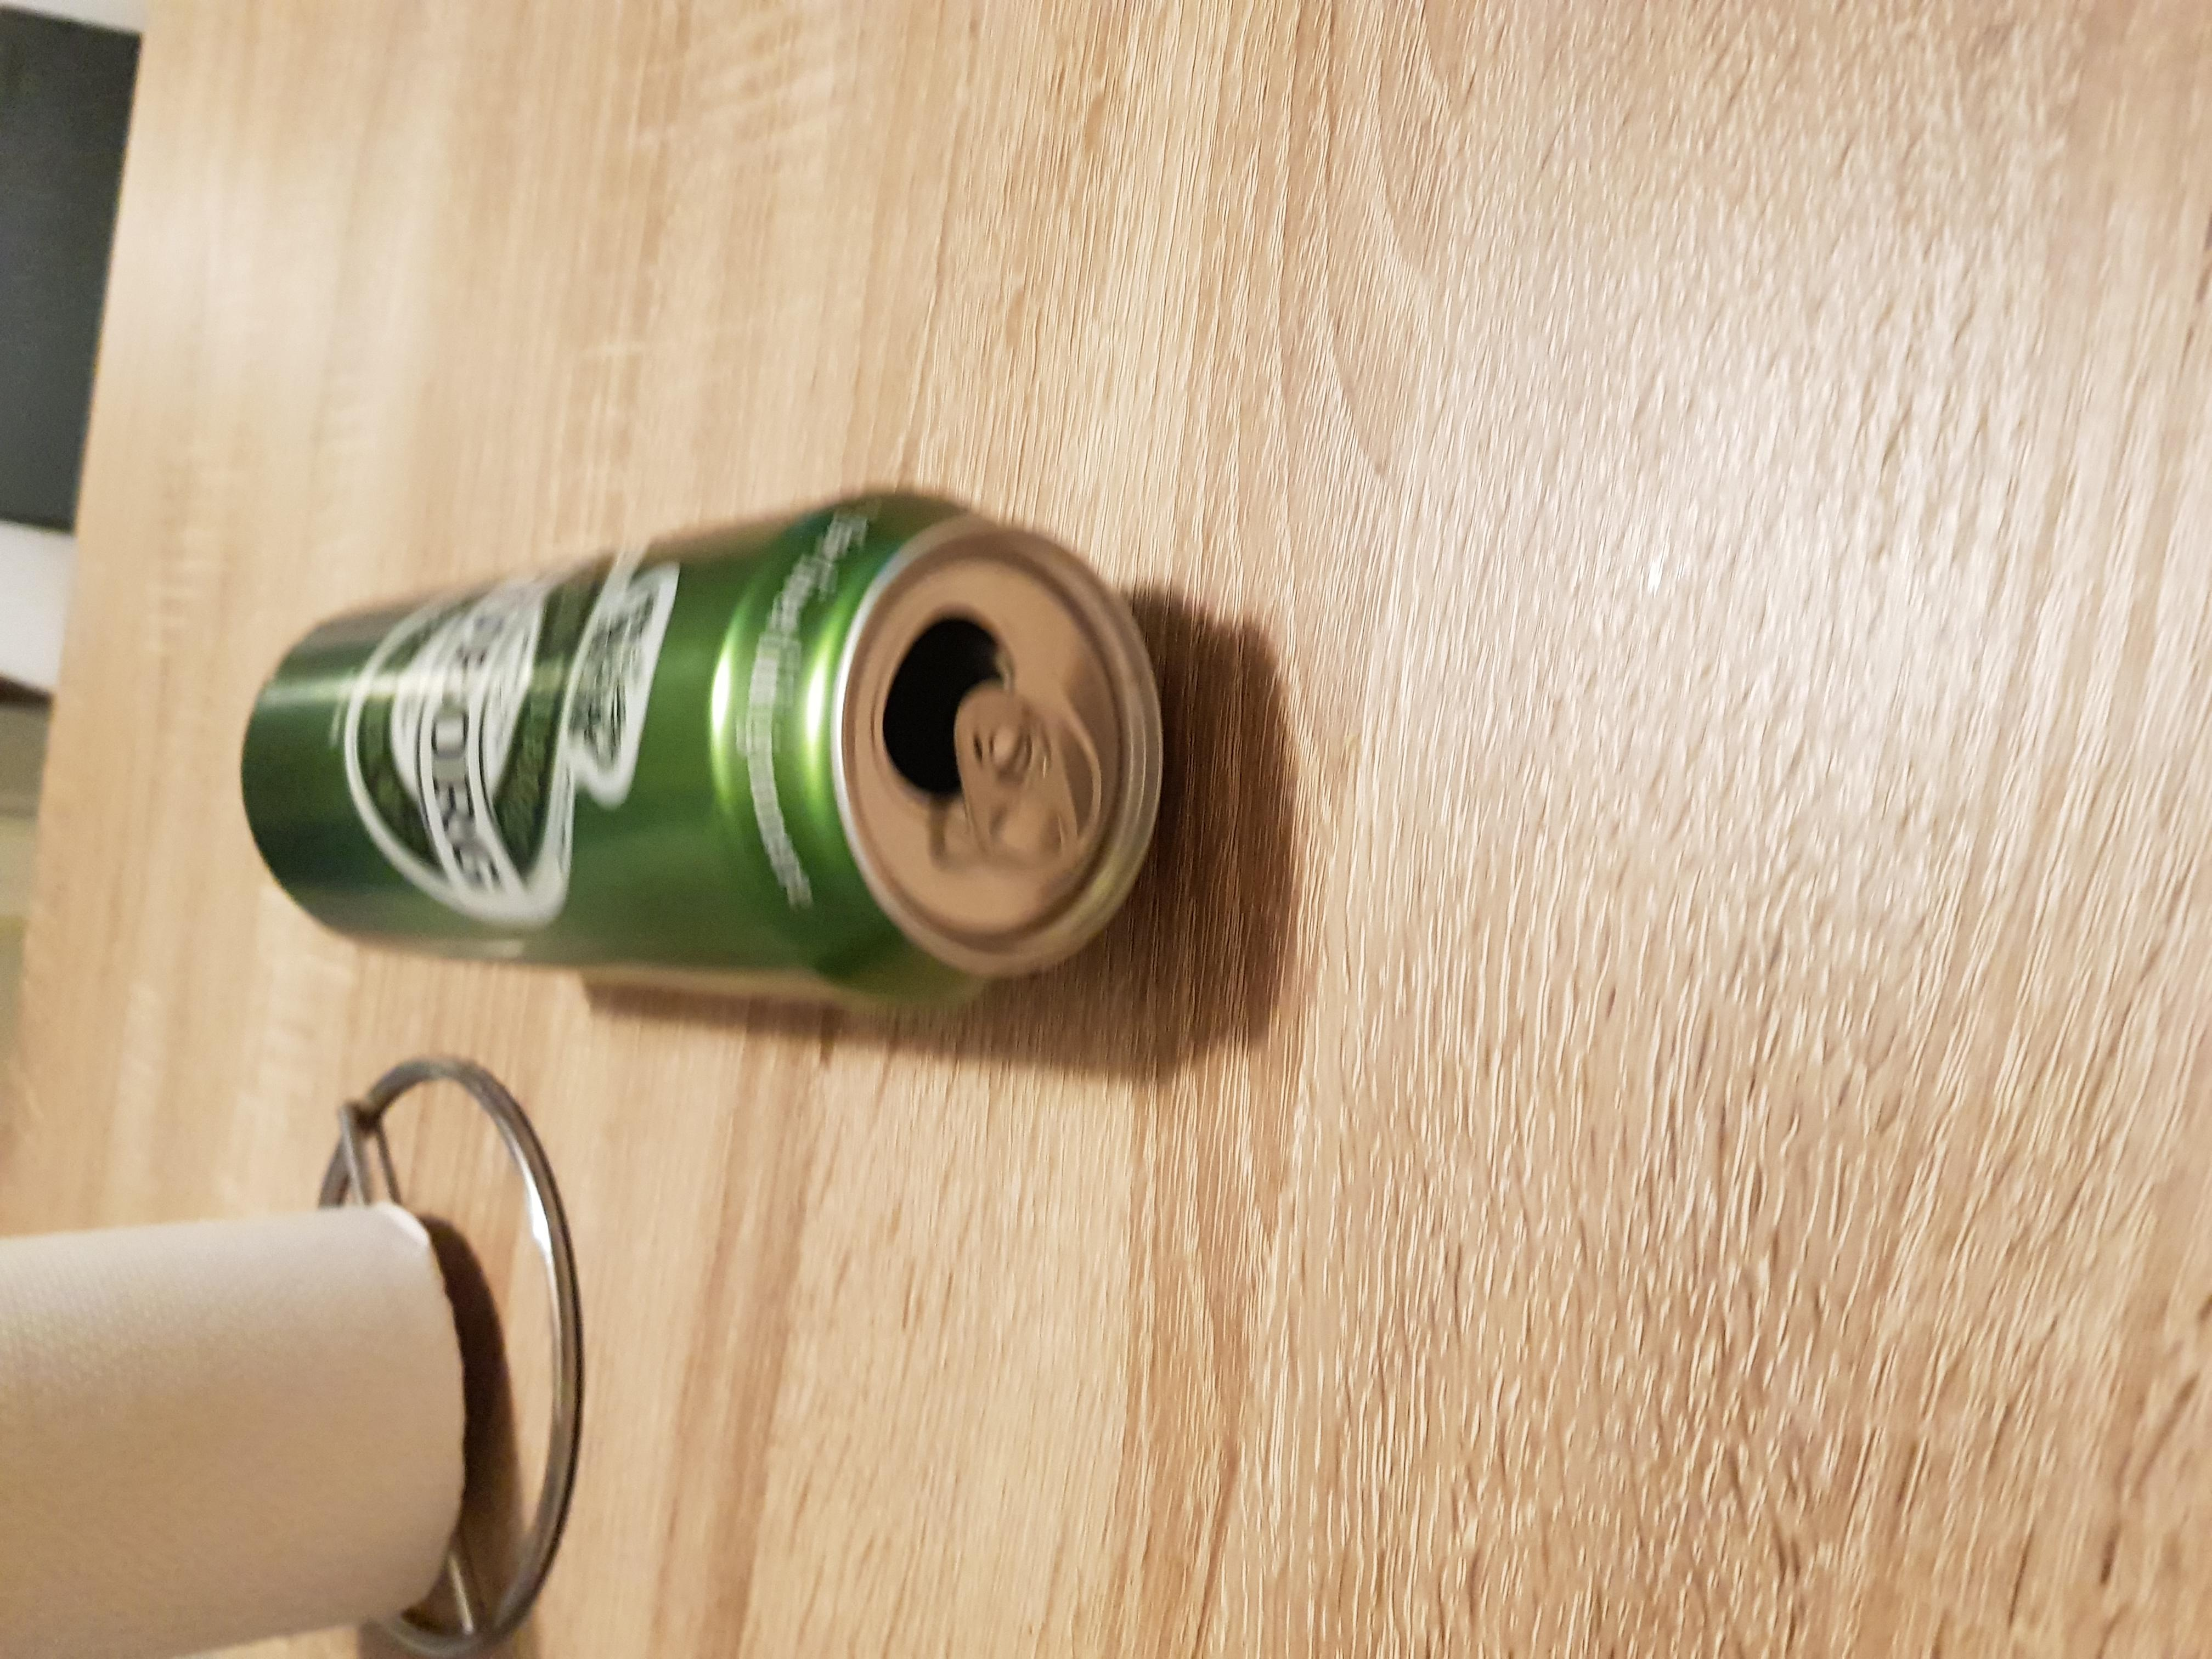can: (219, 481, 1172, 1028)
